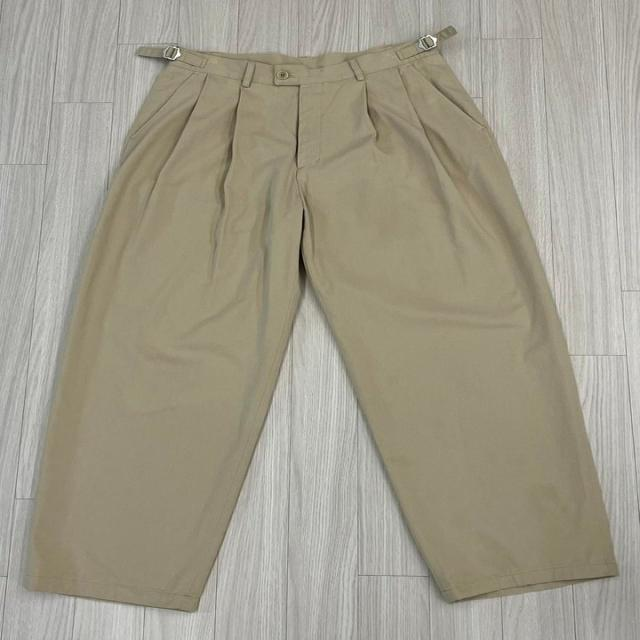long-pants: (25, 34, 617, 615)
